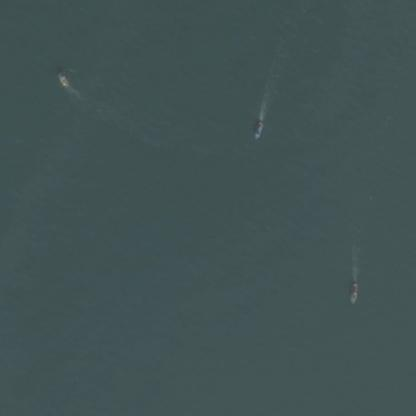ship: (341, 275, 363, 308), (52, 64, 72, 90), (249, 116, 268, 142)
